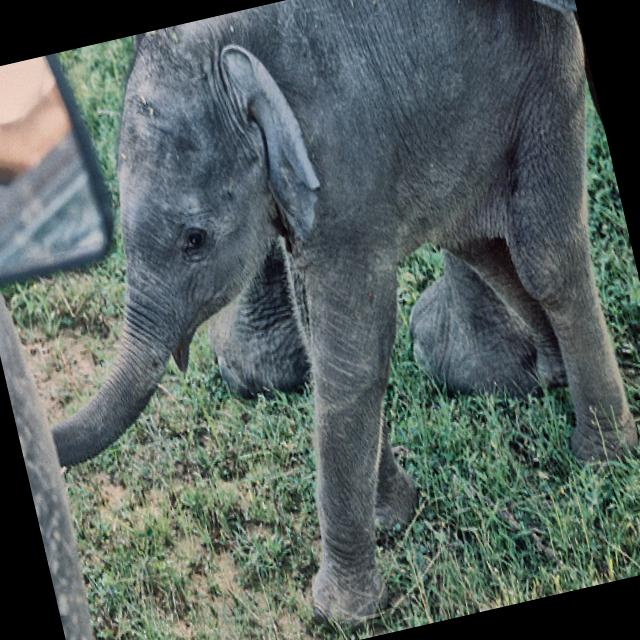Vehicle: (0, 47, 222, 640)
